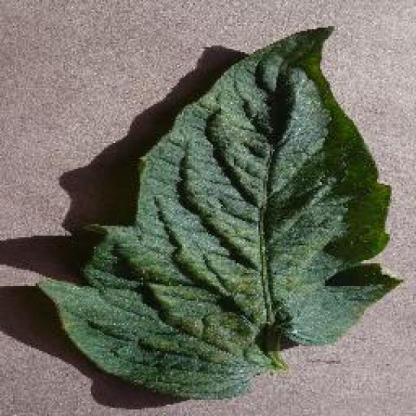Tomato_Spider_Mites: (40, 27, 385, 395)
